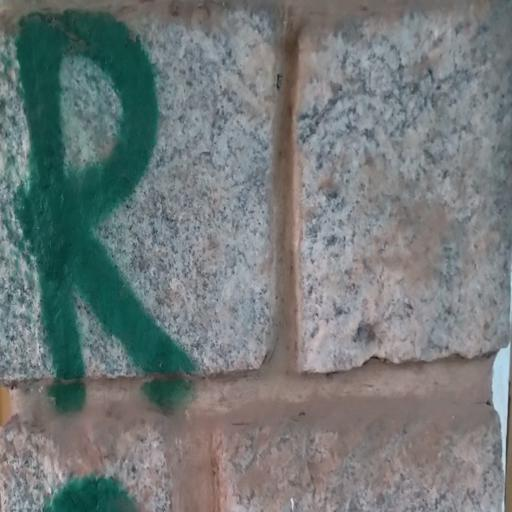stain: (16, 6, 249, 417), (28, 464, 174, 512)
